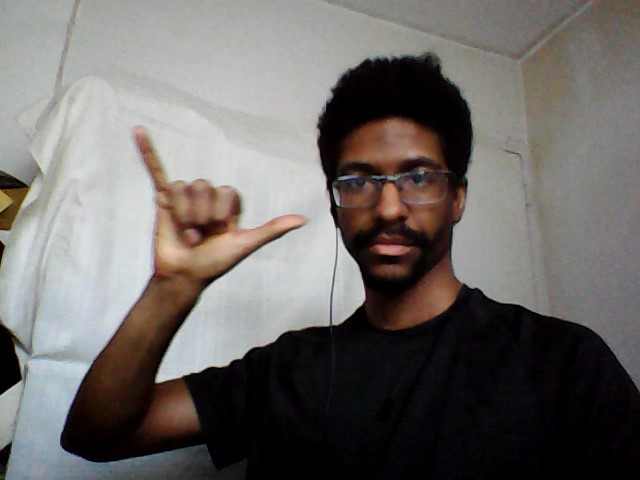y: (125, 122, 311, 293)
